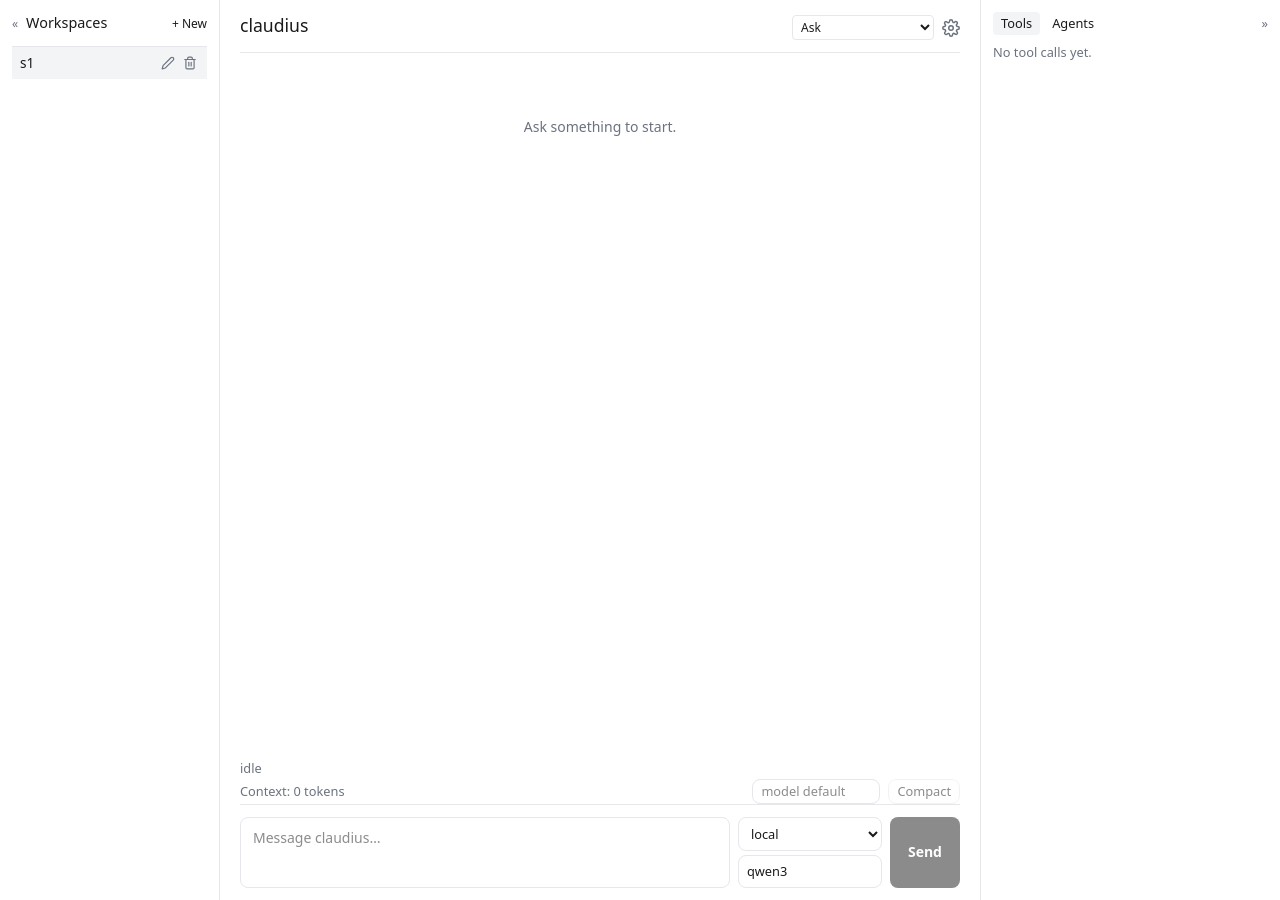
Test: App › a streaming assistant turn shows the selected model
This screenshot has width=1280, height=900.
Type "hello" into the text box with placeholder "Message claudius…".
click(485, 852); type("hello")  # box x1=240 y1=817 x2=730 y2=888
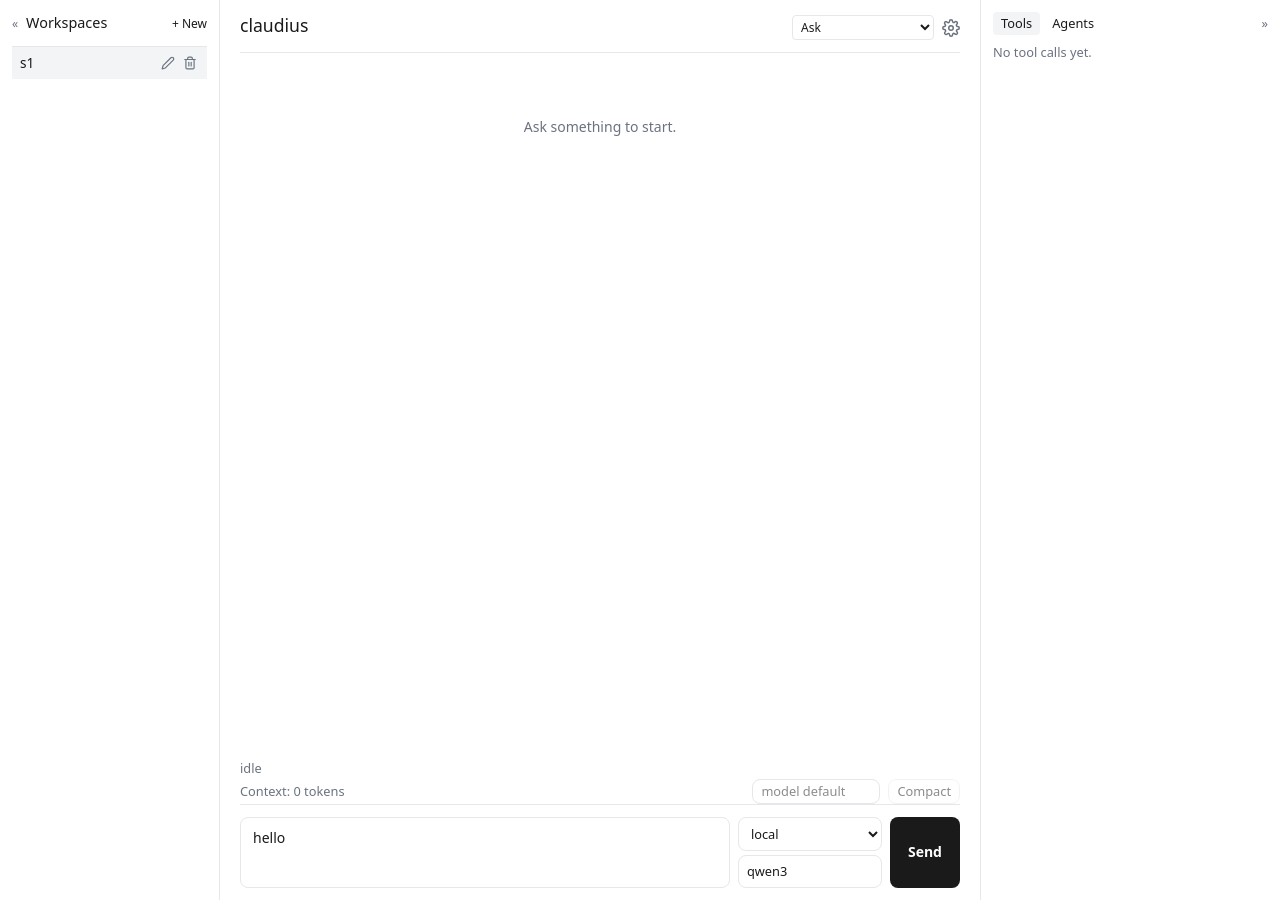
Press Enter in the text box named "Message claudius", box x1=240 y1=817 x2=730 y2=888
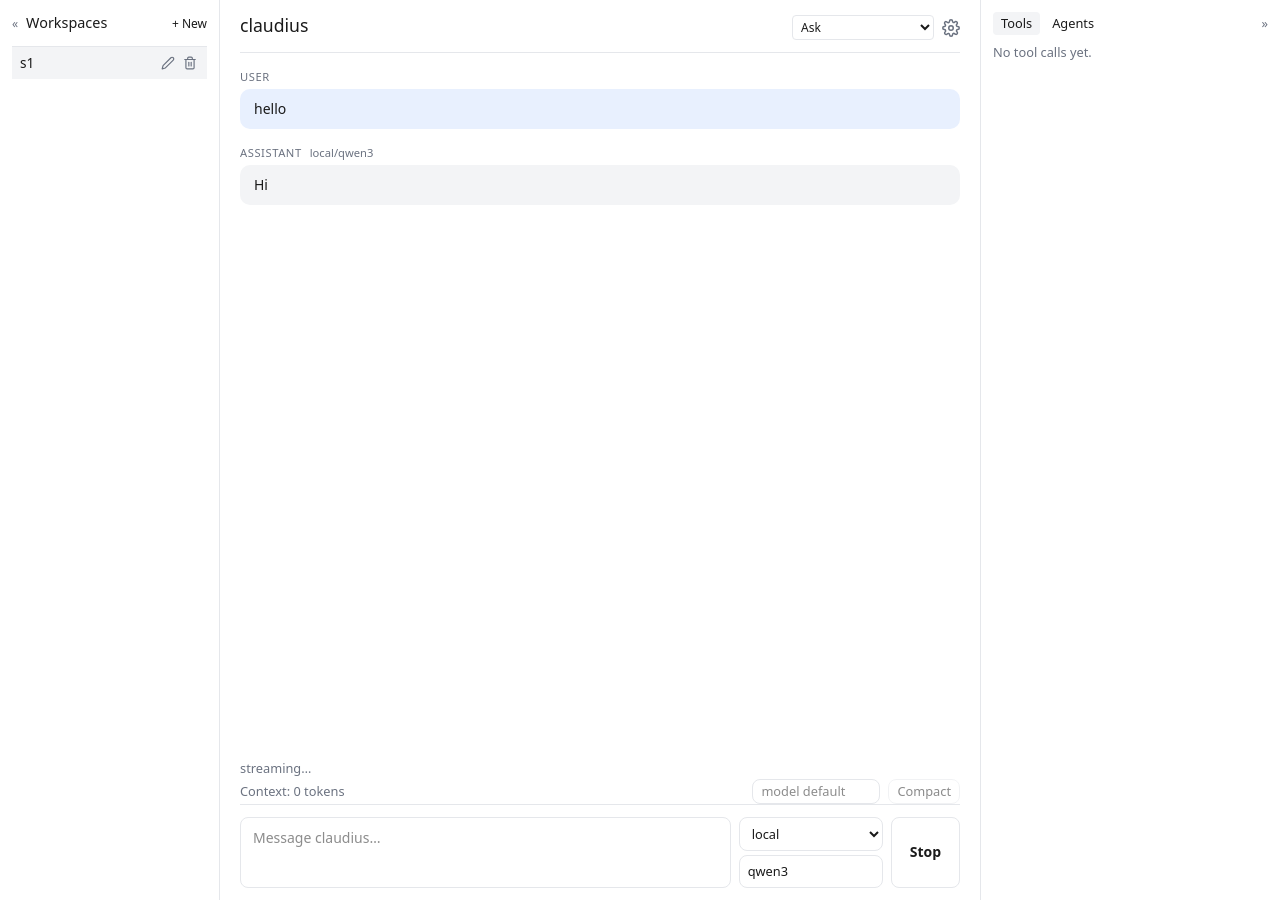
expect the text "local/qwen3" is shown: met, box x1=310 y1=145 x2=373 y2=160
